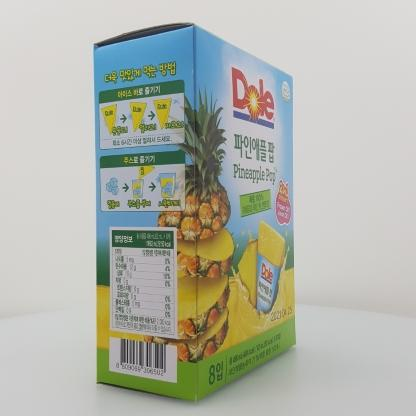---------496ML: (93, 22, 296, 402)
